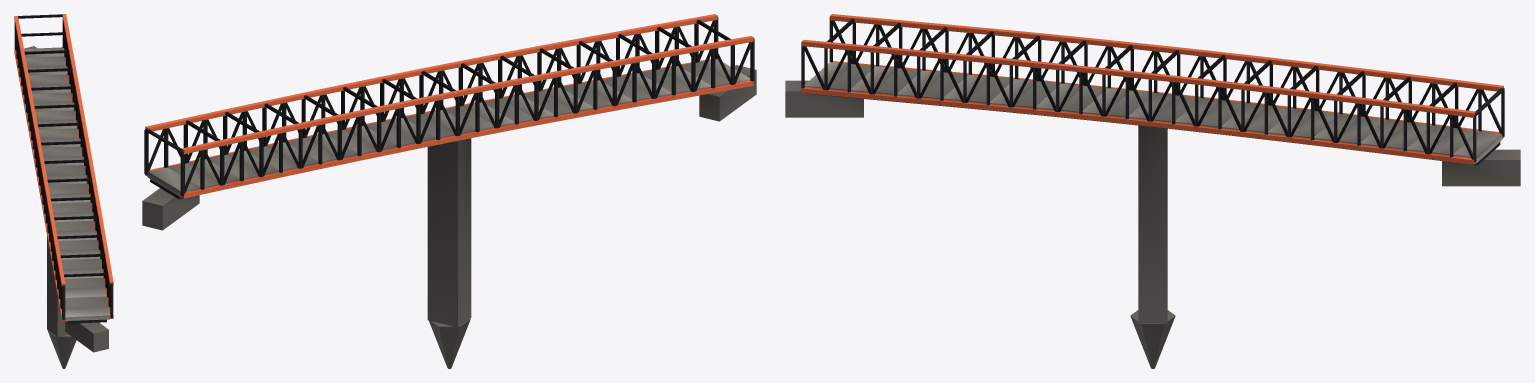
File: projects_contact.glb
The picture shows the model from 3 angles, left to right: view 1: azimuth 30°, elevation 25°; view 2: azimuth 150°, elevation 25°; view 3: azimuth 270°, elevation 25°; orthographic projection. The views are drawn at different scales.
Visible parts, largest first — view 1: bridge; view 2: bridge; view 3: bridge.
Boxes of the visible parts, x1,y1,x2,y2 form: bridge: (14,14,113,368); bridge: (142,14,756,368); bridge: (785,14,1520,368).
Bounding box in the file's own units: 9.11 × 8.91 × 17.76.
